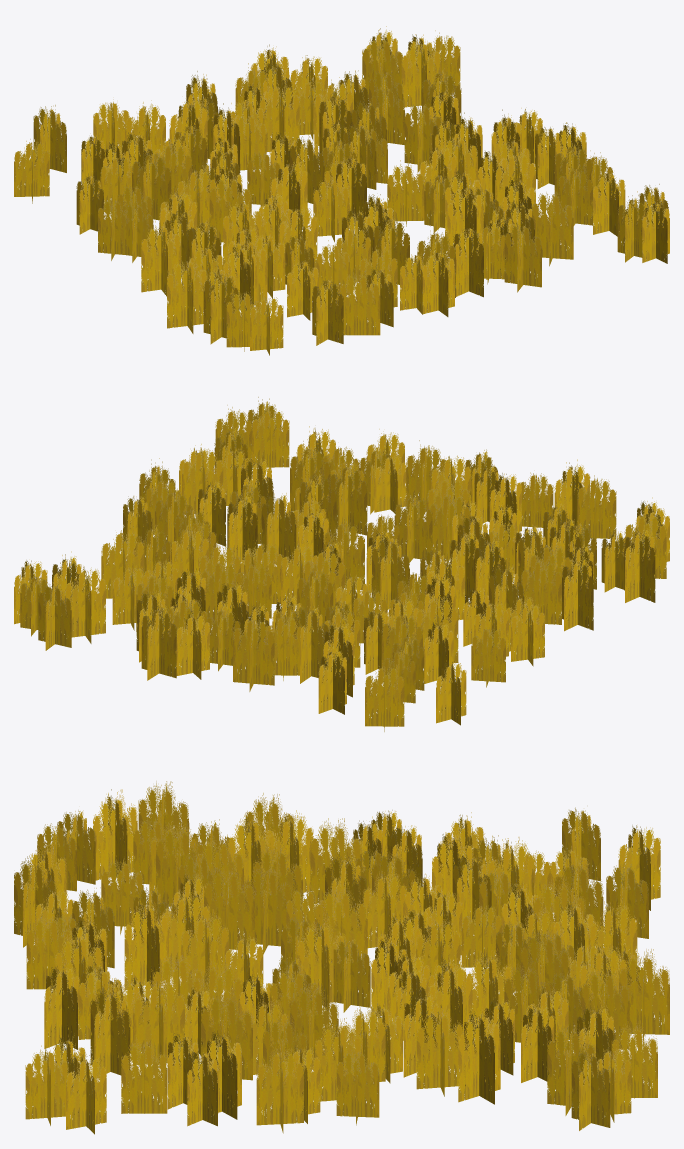
Rendered from Farmi_Pelto_10m_LOD3.fbx.
The picture shows the model from 3 angles, top to bottom: view 1: azimuth 30°, elevation 25°; view 2: azimuth 150°, elevation 25°; view 3: azimuth 270°, elevation 25°; orthographic projection. The views are drawn at different scales.
Parts seen in each view (by area): view 1: Farmi_Pelto_10m_LOD3; view 2: Farmi_Pelto_10m_LOD3; view 3: Farmi_Pelto_10m_LOD3.
Part boxes in pixels (<box>): Farmi_Pelto_10m_LOD3: <box>14,26,669,355</box>; Farmi_Pelto_10m_LOD3: <box>14,397,669,731</box>; Farmi_Pelto_10m_LOD3: <box>14,781,669,1134</box>.
Size of the model in its own units: 1057 by 170 by 1056.
